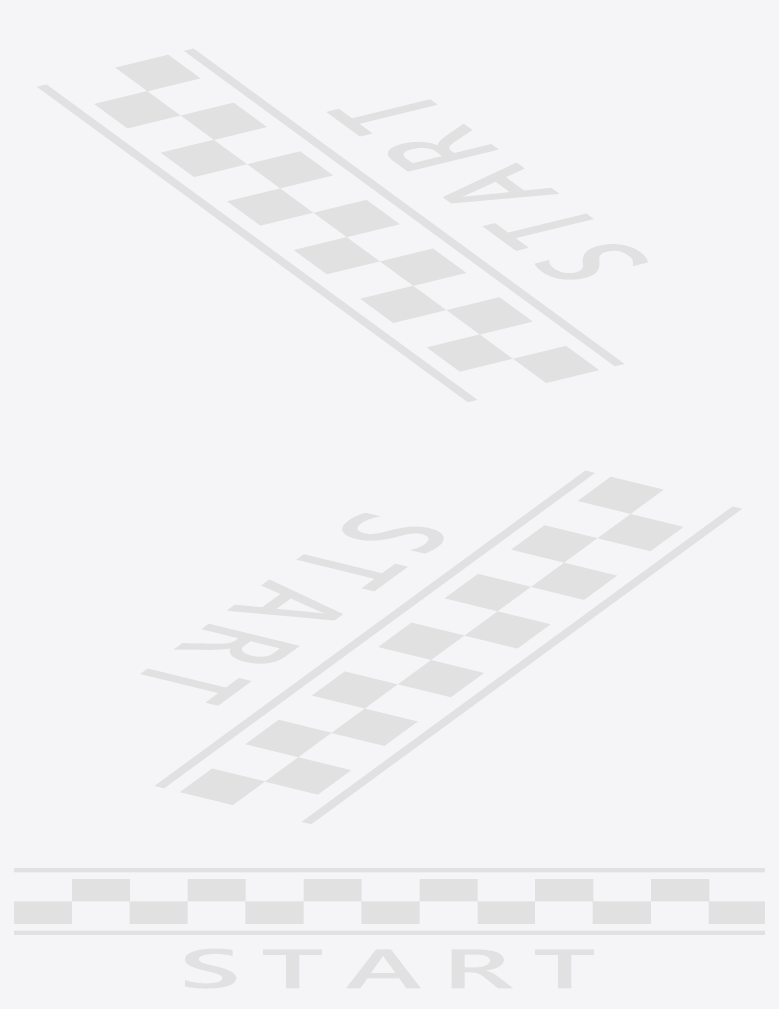
Rendered from StartLine.fbx.
The picture shows the model from 3 angles, top to bottom: view 1: azimuth 30°, elevation 25°; view 2: azimuth 150°, elevation 25°; view 3: azimuth 270°, elevation 25°; orthographic projection. The views are drawn at different scales.
Parts seen in each view (by area): view 1: StartLine.010; view 2: StartLine.010; view 3: StartLine.010.
Boxes of the visible parts, bbox=[...] form: StartLine.010: bbox=[37, 48, 647, 401]; StartLine.010: bbox=[140, 470, 741, 823]; StartLine.010: bbox=[14, 868, 764, 988].
Size of the model in its own units: 600 by 2.62e-05 by 1400.
